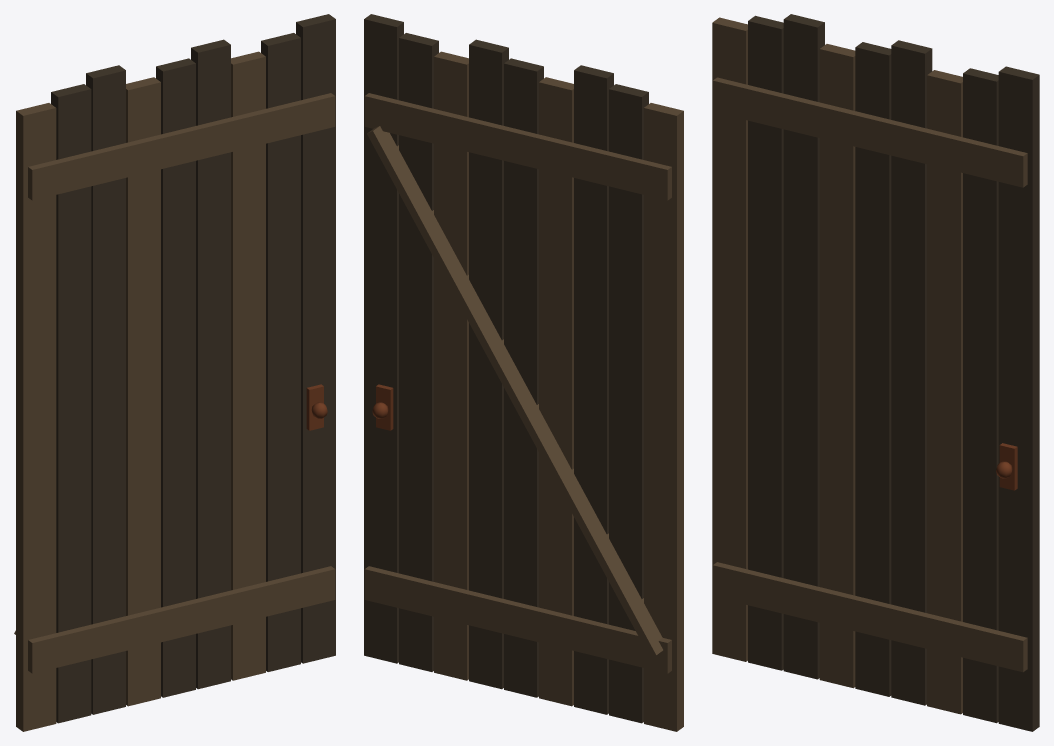
File: SM_Door_abandoned_130x250.fbx
3 renders of one model, left to right at view 1: azimuth 30°, elevation 25°; view 2: azimuth 150°, elevation 25°; view 3: azimuth 330°, elevation 25°, orthographic. The views are drawn at different scales.
Parts seen in each view (by area): view 1: SM_Door_abandoned_130x250; view 2: SM_Door_abandoned_130x250; view 3: SM_Door_abandoned_130x250.
Part boxes in pixels (x1,y1,x2,y2): SM_Door_abandoned_130x250: [14, 14, 335, 731]; SM_Door_abandoned_130x250: [364, 14, 683, 731]; SM_Door_abandoned_130x250: [712, 14, 1039, 731].
Size of the model in its own units: 1.28 by 2.49 by 0.2.
